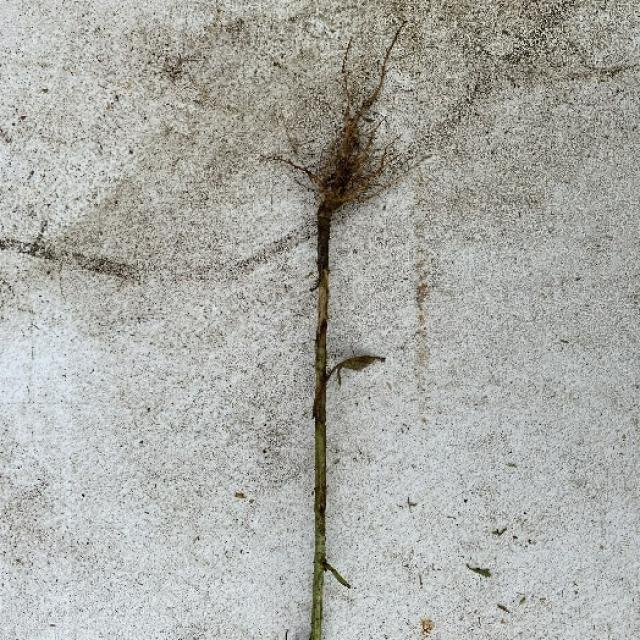wet: (264, 20, 421, 403)
